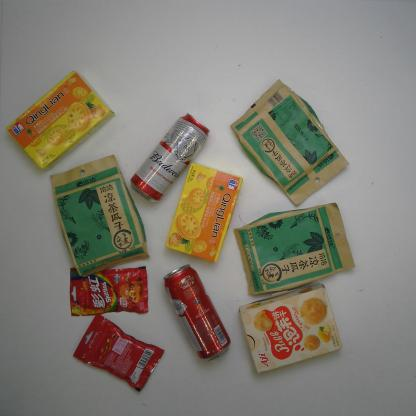Alcohol: (128, 111, 211, 207), (159, 259, 234, 362)
Candy: (71, 308, 168, 398), (63, 260, 150, 318)
Dessert: (6, 69, 118, 177), (236, 283, 347, 375), (165, 160, 247, 267)
Dried Food: (228, 74, 351, 212), (42, 152, 155, 283), (230, 198, 364, 300)
